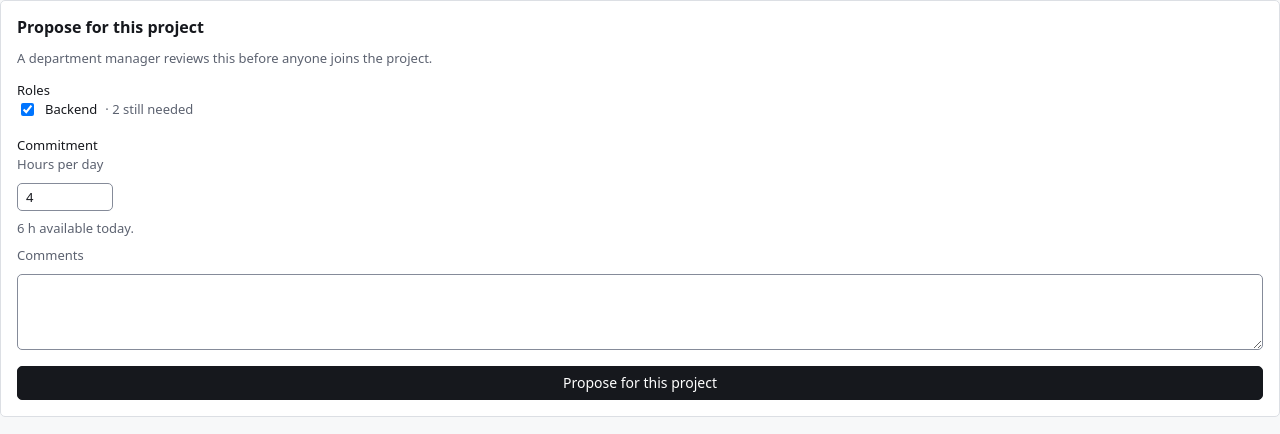
Test: outcomes › names the reviewing department the backend chose
Click the button "Propose for this project" at (640, 383), box [17,366,1263,400]
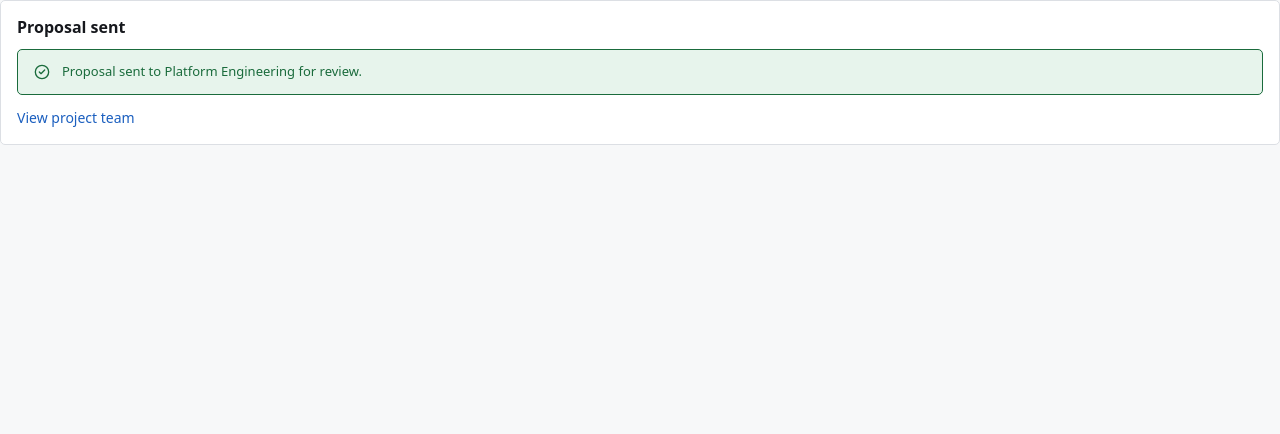
Result: the text "Proposal sent to Platform Engineering for review." is shown at [62,62,362,82]
